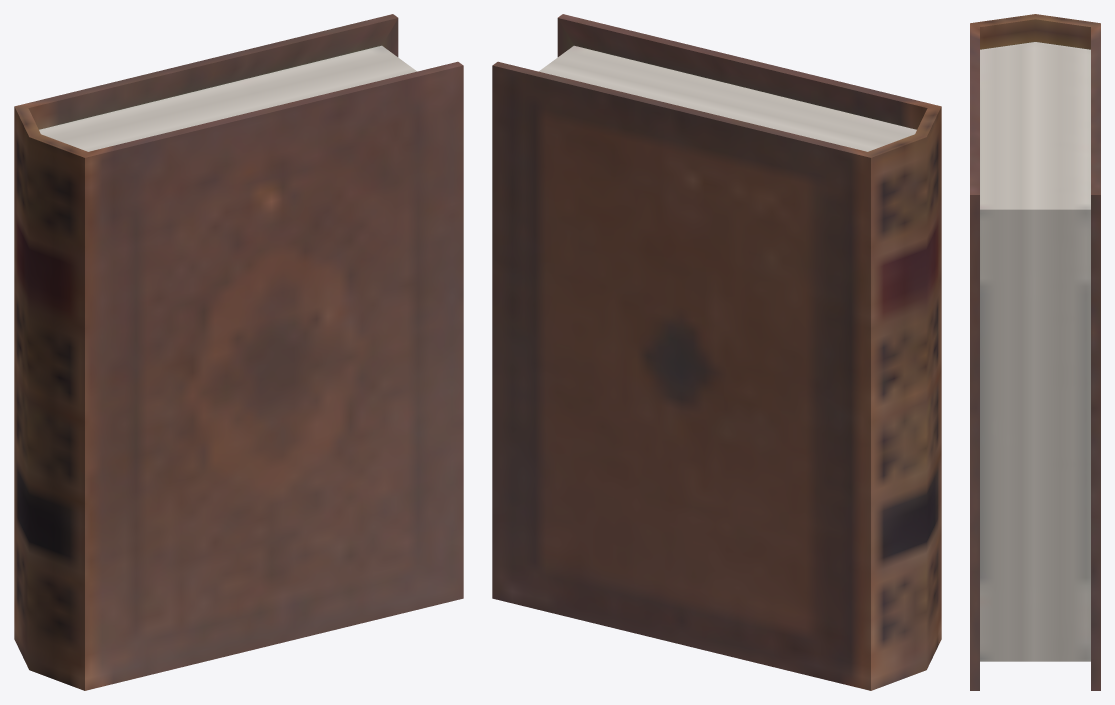
Rendered from Book_A.FBX.
3 views of the same model, side by side, from view 1: azimuth 30°, elevation 25°; view 2: azimuth 150°, elevation 25°; view 3: azimuth 270°, elevation 25° (orthographic). The views are drawn at different scales.
Visible parts, largest first — view 1: Book_A; view 2: Book_A; view 3: Book_A.
Part boxes in pixels (left/top/right/bottom): Book_A: left=14, top=14, right=463, bottom=690; Book_A: left=492, top=14, right=941, bottom=690; Book_A: left=970, top=14, right=1100, bottom=690.
Size of the model in its own units: 17.6 by 22.47 by 5.38.
